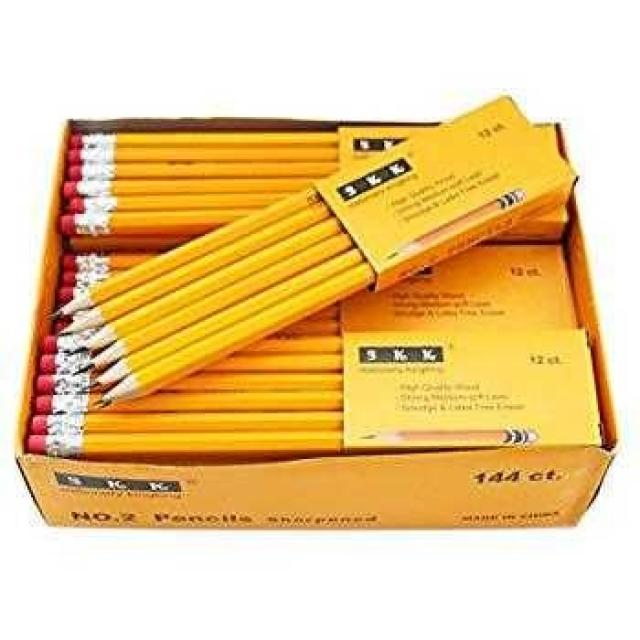pencil: (27, 92, 525, 328), (92, 258, 402, 415), (62, 228, 364, 385), (70, 245, 370, 398), (57, 218, 357, 361), (54, 201, 337, 340), (22, 416, 602, 466), (34, 386, 342, 415), (26, 412, 344, 439), (36, 370, 341, 393)
